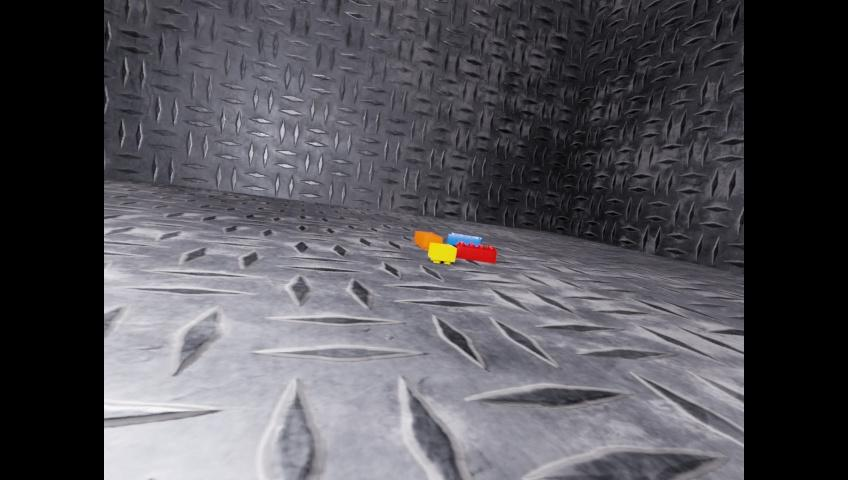2x2_yellow: (428, 243, 456, 264)
4x2_blue: (447, 232, 481, 247)
4x2_orange: (414, 230, 441, 249)
4x2_red: (457, 242, 497, 264)
